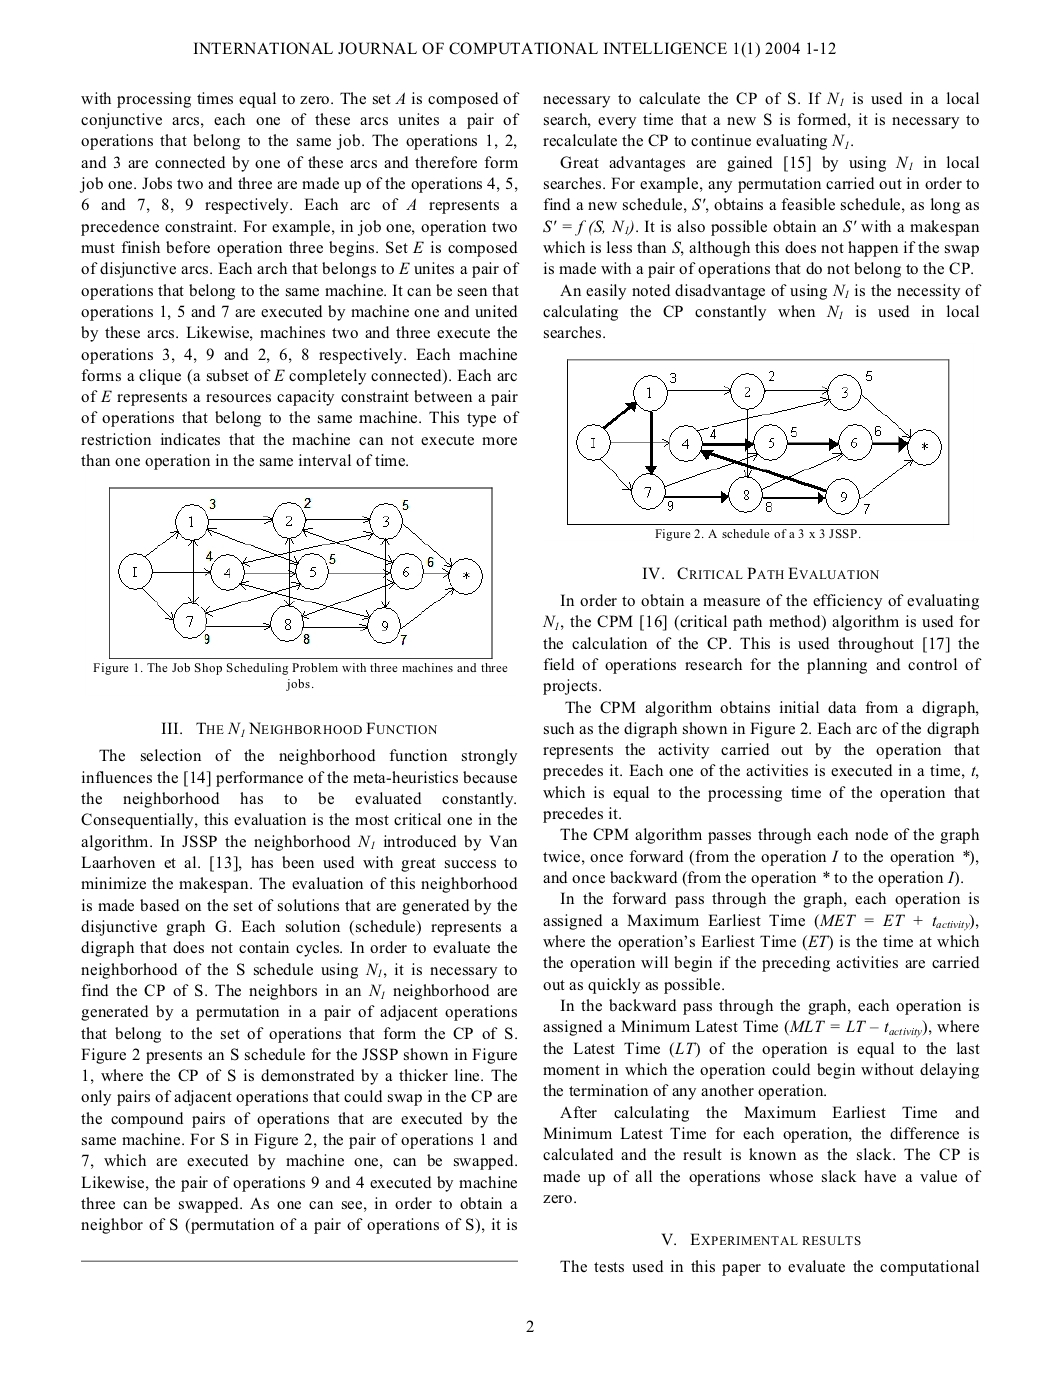figure: (109, 485, 491, 659), (567, 358, 950, 525)
